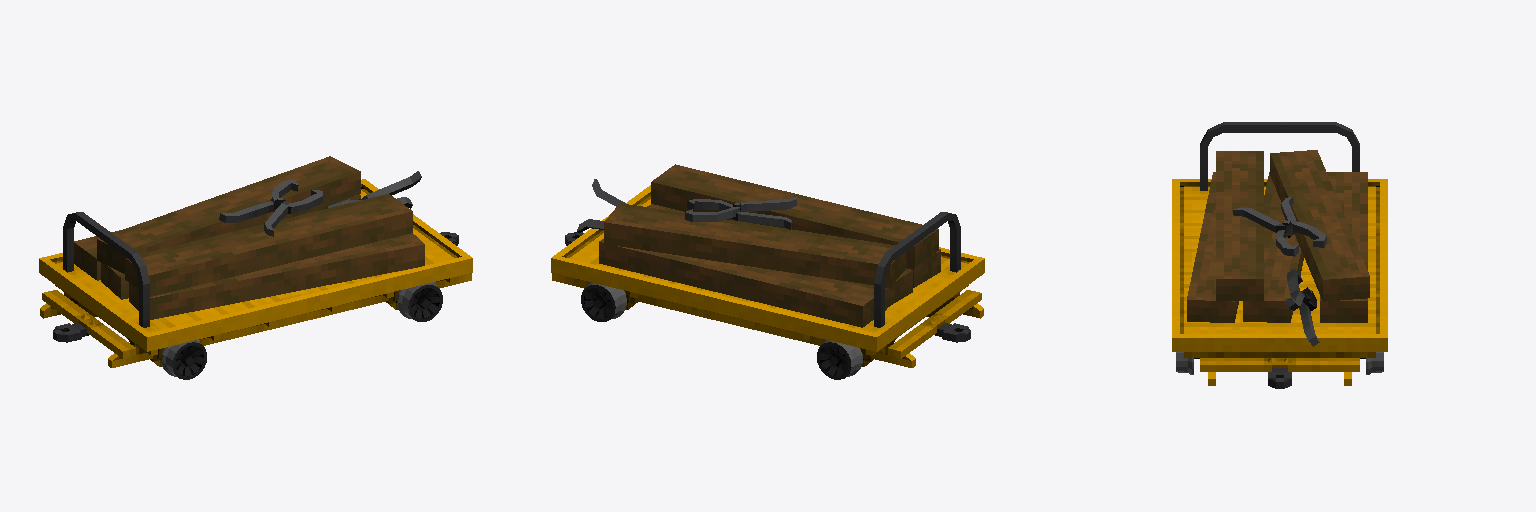
3 views of the same model, side by side, from view 1: azimuth 30°, elevation 25°; view 2: azimuth 150°, elevation 25°; view 3: azimuth 270°, elevation 25° (orthographic).
Visible parts, largest first — view 1: SHELL.006_Cube.1226, CARGO_FILL_65_Cube.1236, CARGO_FILL_43_Cube.1234, CARGO_FILL_76_Cube.1231, FRAME.008_Cube.1225, Cube.366_Cube.1228, CARGO_FILL_87_Cube.1237, FRAME_WHEEL_1.002_Circle.000, FRAME_WHEEL_2.007_Circle.010, CARGO_FILL_21_Cube.1230, CARGO_FILL_32_Cube.1233, Cube.365_Cube.041 (+1 smaller); view 2: CARGO_FILL_76_Cube.1231, SHELL.006_Cube.1226, CARGO_FILL_21_Cube.1230, CARGO_FILL_65_Cube.1236, FRAME.008_Cube.1225, Cube.366_Cube.1228, CARGO_FILL_87_Cube.1237, FRAME_WHEEL_1.002_Circle.000, FRAME_WHEEL_2.007_Circle.010, CARGO_FILL_10_Cube.1235, Cube.365_Cube.041, CARGO_FILL_43_Cube.1234 (+1 smaller); view 3: SHELL.006_Cube.1226, CARGO_FILL_76_Cube.1231, CARGO_FILL_65_Cube.1236, CARGO_FILL_10_Cube.1235, CARGO_FILL_43_Cube.1234, CARGO_FILL_21_Cube.1230, FRAME.008_Cube.1225, Cube.366_Cube.1228, CARGO_FILL_87_Cube.1237, CARGO_FILL_32_Cube.1233, SHELL.007_Cube.1227, FRAME_WHEEL_2.007_Circle.010.
Part boxes in pixels (left/top/right/bottom): SHELL.006_Cube.1226: left=39, top=179, right=472, bottom=351; CARGO_FILL_65_Cube.1236: left=125, top=194, right=412, bottom=296; CARGO_FILL_43_Cube.1234: left=129, top=233, right=424, bottom=319; CARGO_FILL_76_Cube.1231: left=97, top=156, right=360, bottom=273; FRAME.008_Cube.1225: left=40, top=273, right=471, bottom=367; Cube.366_Cube.1228: left=63, top=212, right=149, bottom=327; CARGO_FILL_87_Cube.1237: left=219, top=180, right=322, bottom=236; FRAME_WHEEL_1.002_Circle.000: left=161, top=340, right=206, bottom=379; FRAME_WHEEL_2.007_Circle.010: left=397, top=282, right=442, bottom=321; CARGO_FILL_21_Cube.1230: left=74, top=194, right=360, bottom=280; CARGO_FILL_32_Cube.1233: left=323, top=171, right=421, bottom=209; Cube.365_Cube.041: left=53, top=232, right=458, bottom=342; CARGO_FILL_76_Cube.1231: left=604, top=203, right=905, bottom=287; SHELL.006_Cube.1226: left=551, top=185, right=984, bottom=351; CARGO_FILL_21_Cube.1230: left=599, top=239, right=886, bottom=327; CARGO_FILL_65_Cube.1236: left=651, top=164, right=938, bottom=267; FRAME.008_Cube.1225: left=552, top=273, right=983, bottom=367; Cube.366_Cube.1228: left=874, top=212, right=960, bottom=327; CARGO_FILL_87_Cube.1237: left=685, top=197, right=796, bottom=229; FRAME_WHEEL_1.002_Circle.000: left=817, top=340, right=862, bottom=379; FRAME_WHEEL_2.007_Circle.010: left=581, top=282, right=626, bottom=321; CARGO_FILL_10_Cube.1235: left=647, top=204, right=912, bottom=307; Cube.365_Cube.041: left=565, top=232, right=970, bottom=342; CARGO_FILL_43_Cube.1234: left=906, top=249, right=940, bottom=287; SHELL.006_Cube.1226: left=1172, top=179, right=1387, bottom=351; CARGO_FILL_76_Cube.1231: left=1270, top=150, right=1369, bottom=301; CARGO_FILL_65_Cube.1236: left=1216, top=151, right=1263, bottom=300; CARGO_FILL_10_Cube.1235: left=1243, top=172, right=1303, bottom=322; CARGO_FILL_43_Cube.1234: left=1187, top=172, right=1238, bottom=322; CARGO_FILL_21_Cube.1230: left=1320, top=172, right=1367, bottom=322; FRAME.008_Cube.1225: left=1200, top=358, right=1359, bottom=385; Cube.366_Cube.1228: left=1200, top=122, right=1359, bottom=190; CARGO_FILL_87_Cube.1237: left=1233, top=197, right=1326, bottom=256; CARGO_FILL_32_Cube.1233: left=1284, top=269, right=1319, bottom=346; SHELL.007_Cube.1227: left=1184, top=352, right=1375, bottom=357; FRAME_WHEEL_2.007_Circle.010: left=1176, top=352, right=1383, bottom=374.
Size of the model in its own units: 3.62 by 1.02 by 1.69.
1 materials, 1 textured.